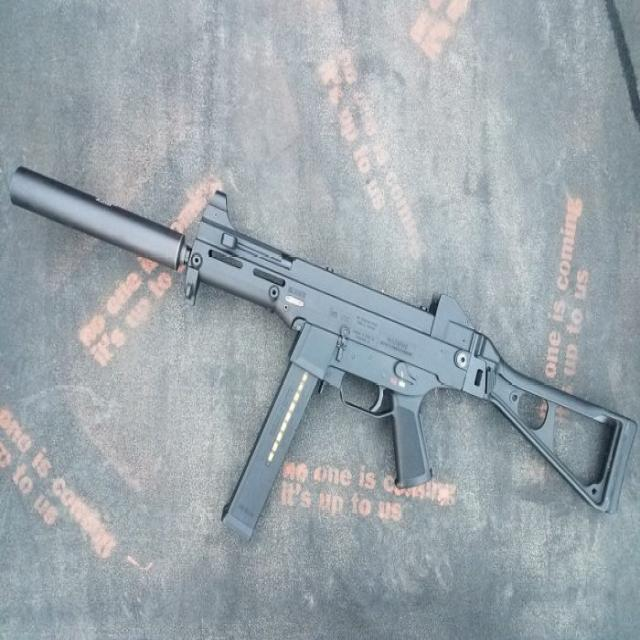SMG: (10, 168, 640, 545)
